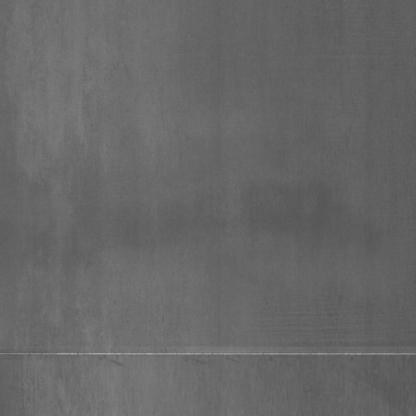welding_line: (0, 336, 416, 369)
